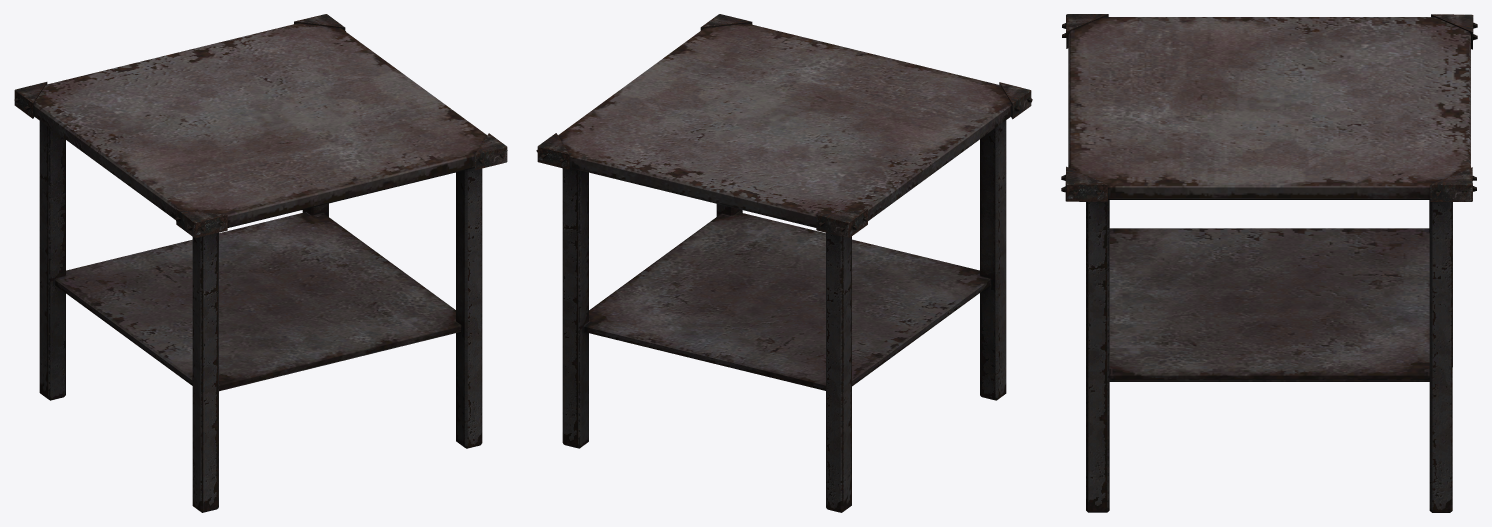
Rendered from table_metal_small.dae.
3 renders of one model, left to right at view 1: azimuth 30°, elevation 25°; view 2: azimuth 150°, elevation 25°; view 3: azimuth 270°, elevation 25°, orthographic. The views are drawn at different scales.
Visible parts, largest first — view 1: polySurface155; view 2: polySurface155; view 3: polySurface155.
Part boxes in pixels (<box>): polySurface155: <box>14,14,507,512</box>; polySurface155: <box>536,14,1032,512</box>; polySurface155: <box>1061,14,1477,512</box>.
Size of the model in its own units: 1.18 by 1.06 by 1.19.
